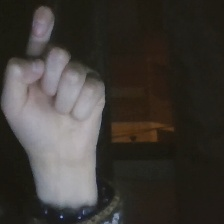X: (1, 1, 111, 164)
